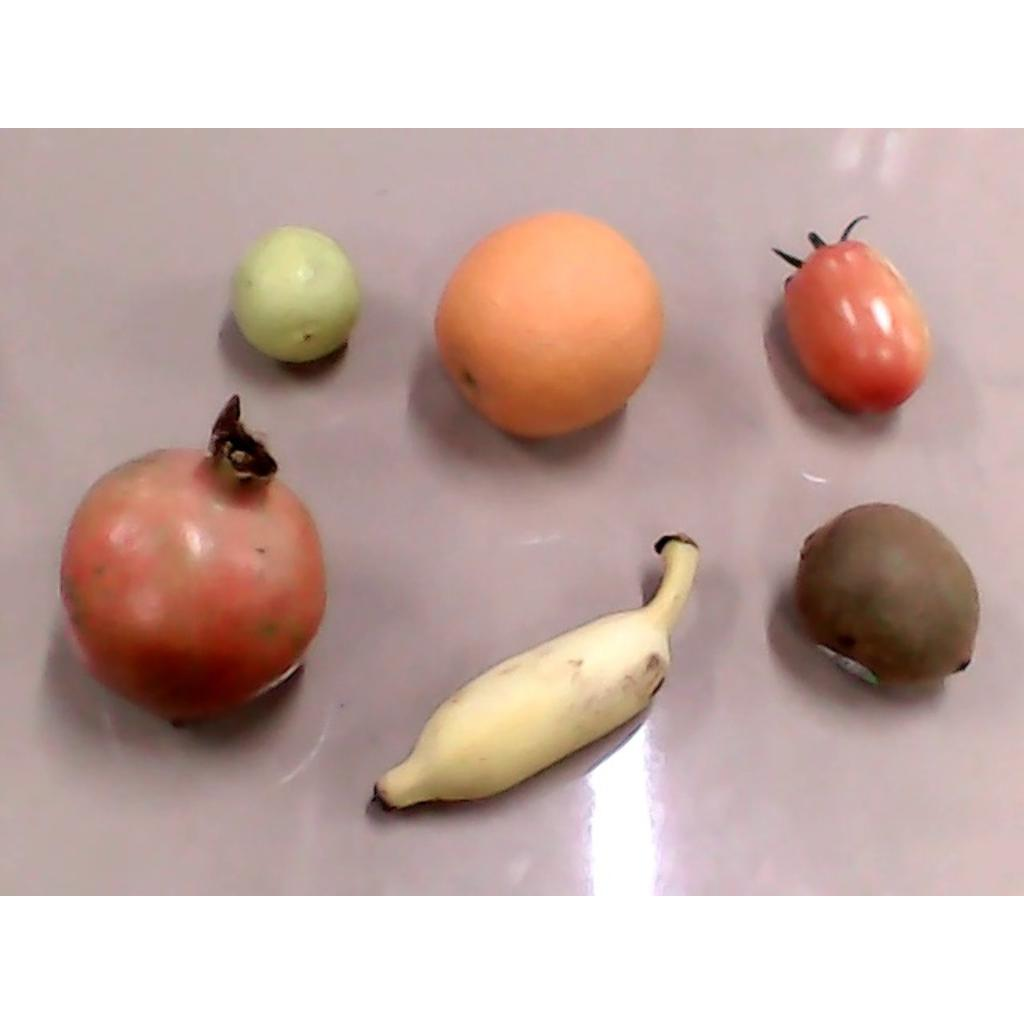kiwi: (794, 502, 979, 691)
lemon: (228, 224, 360, 361)
orange: (432, 211, 664, 437)
pomegranate: (59, 394, 325, 719)
tomato: (771, 214, 931, 414)
